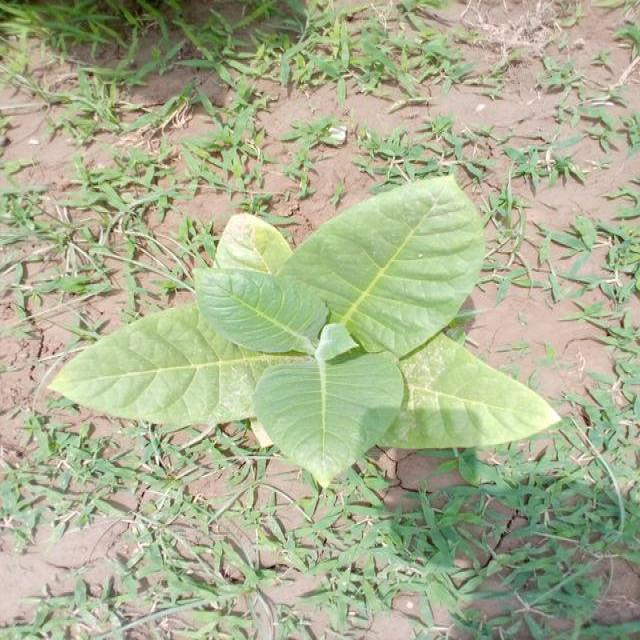crop: (61, 191, 552, 491)
